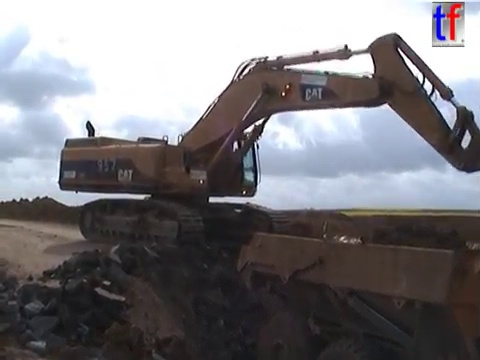excavator: (55, 30, 479, 252)
truck: (233, 213, 480, 360)
